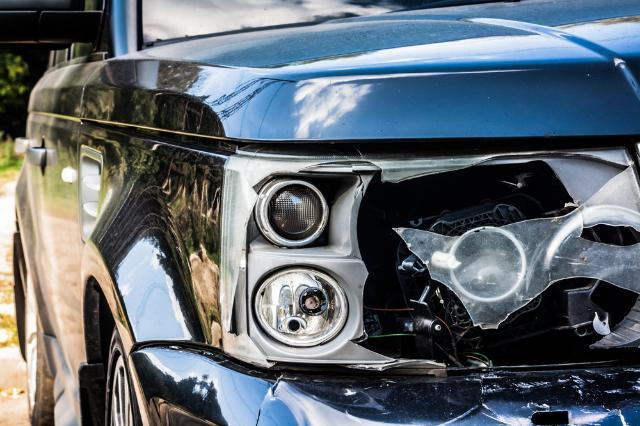crack: (255, 376, 285, 426)
lamp broken: (218, 149, 640, 377)
